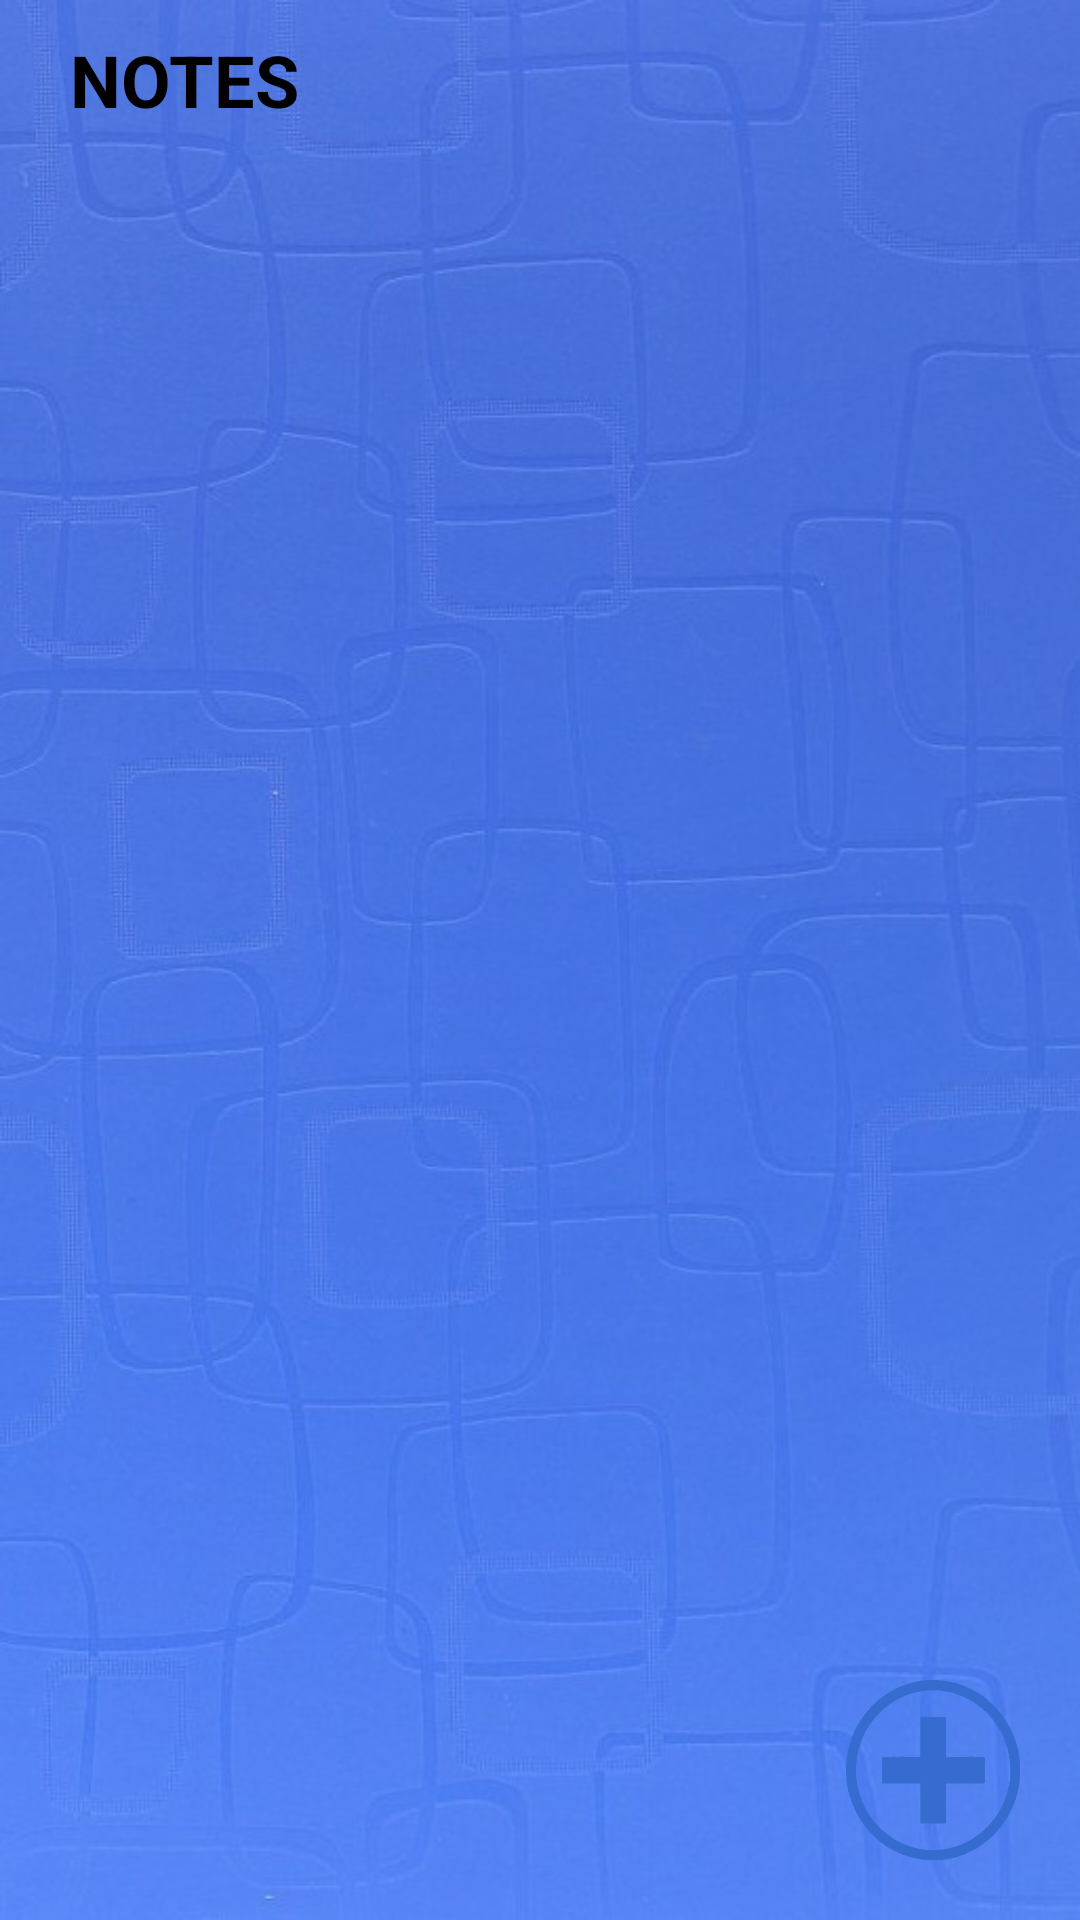

Icons on this 1080w x 1920h Android screen, each with the point to tap as (x,y):
plus: (933,1770)
